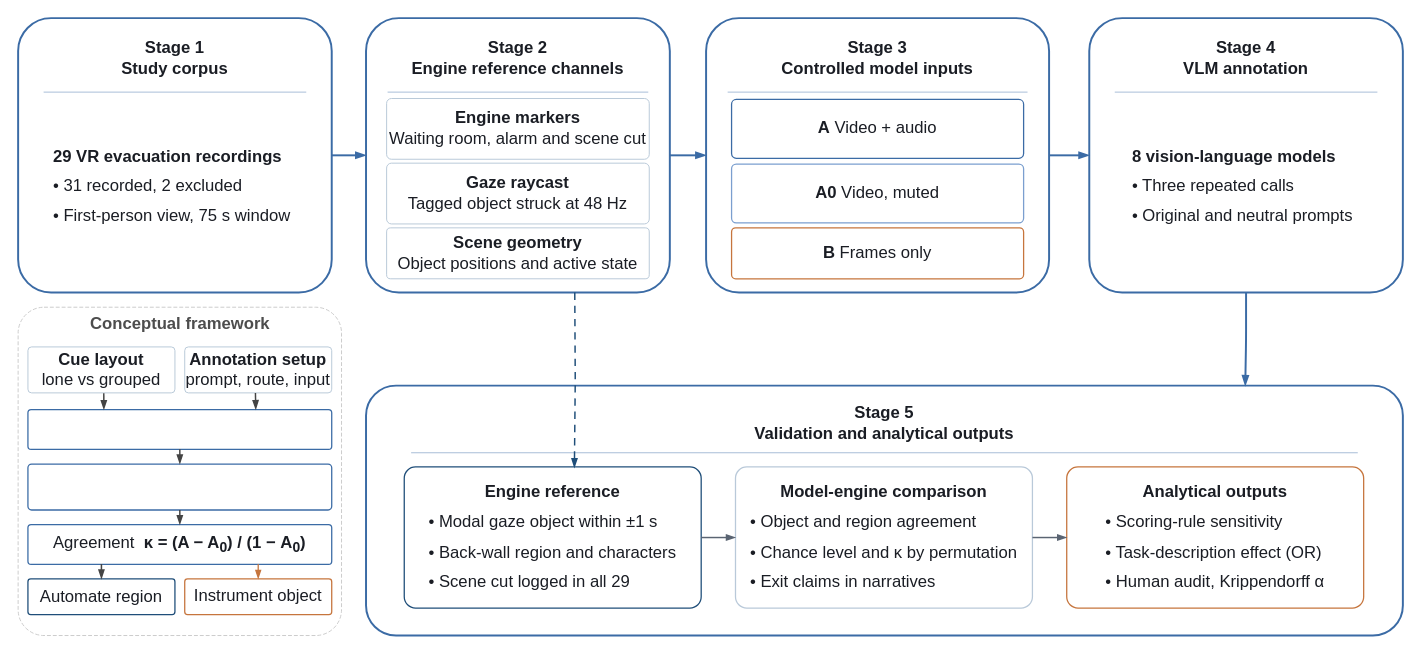
The diagram is 1420 pixels wide and 653 high, and some of its shapes have lost their labels. The centre of each missing label's shape, as x and y in pixels:
Attention and exit claims c i: the point at 179,429
Engine check modal gaze object, logged scene cut: the point at 179,486
